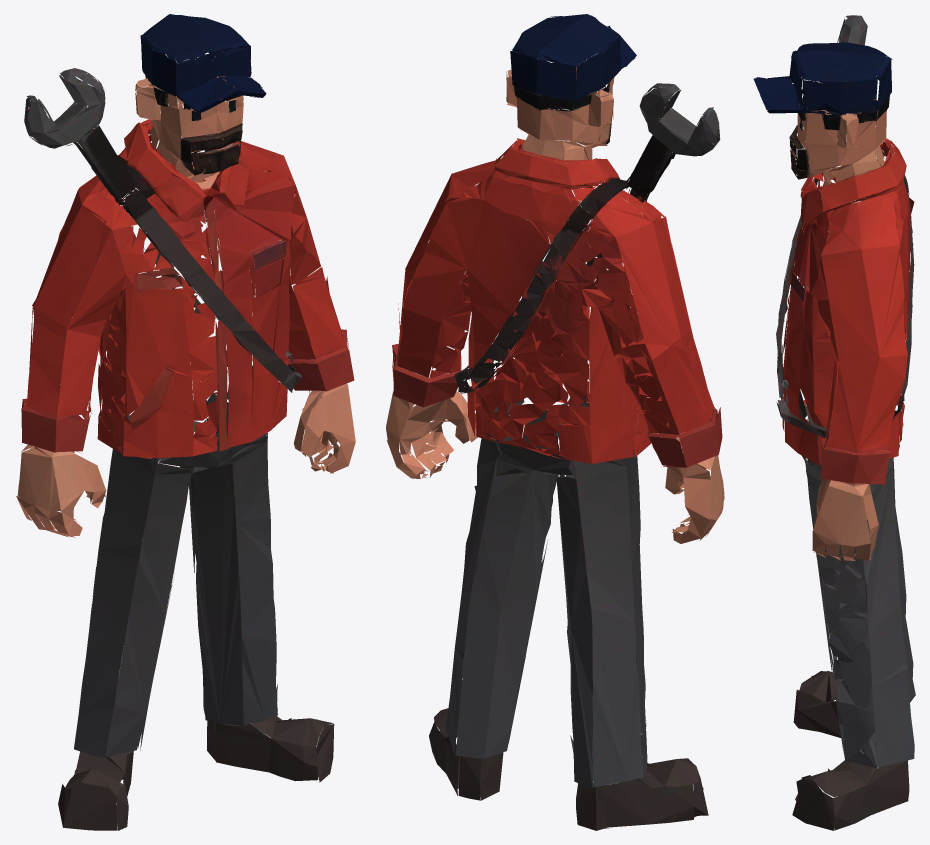
Rendered from habitant.glb.
The picture shows the model from 3 angles, left to right: view 1: azimuth 30°, elevation 25°; view 2: azimuth 150°, elevation 25°; view 3: azimuth 270°, elevation 25°; orthographic projection. The views are drawn at different scales.
Parts seen in each view (by area): view 1: world; view 2: world; view 3: world.
Part boxes in pixels (x1,y1,x2,y2): world: (16,14,355,830); world: (386,14,724,830); world: (753,15,915,830).
Bounding box in the file's own units: 0.4534 × 1 × 0.2059.
Materials: 1 (1 with a texture image).
